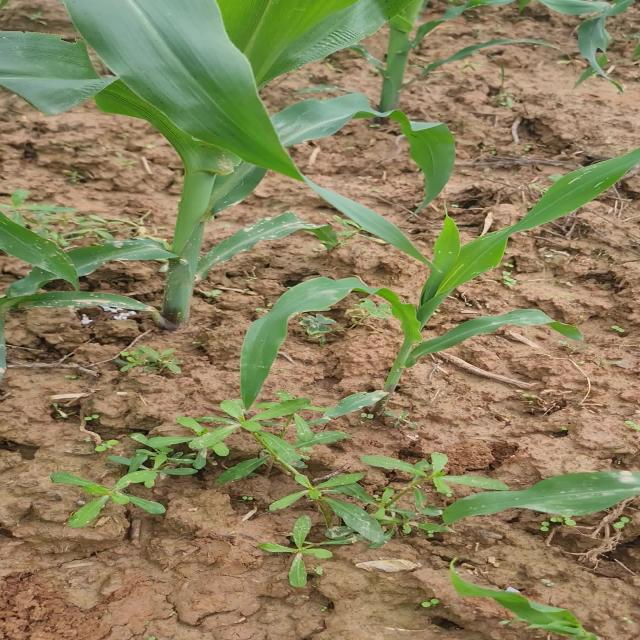maize: (0, 1, 379, 320), (383, 170, 640, 357), (283, 0, 517, 153), (404, 453, 640, 531), (526, 0, 640, 120), (456, 576, 625, 640)
weed: (92, 415, 475, 591), (95, 347, 218, 384)
